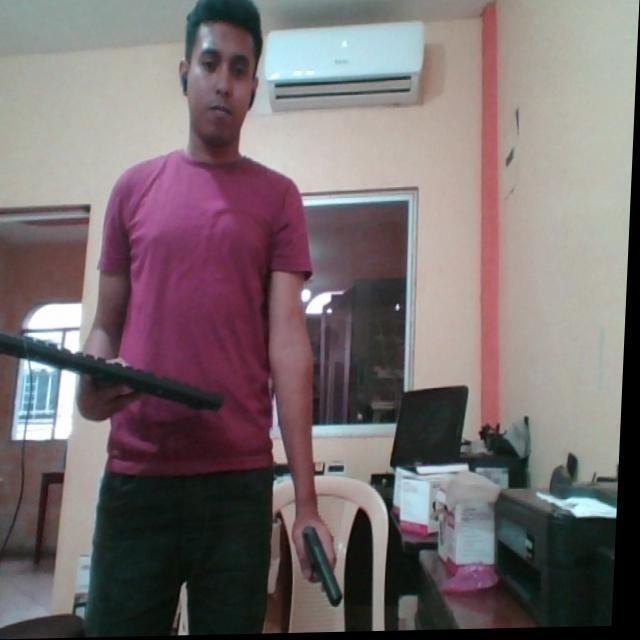weapon: (299, 518, 352, 616)
